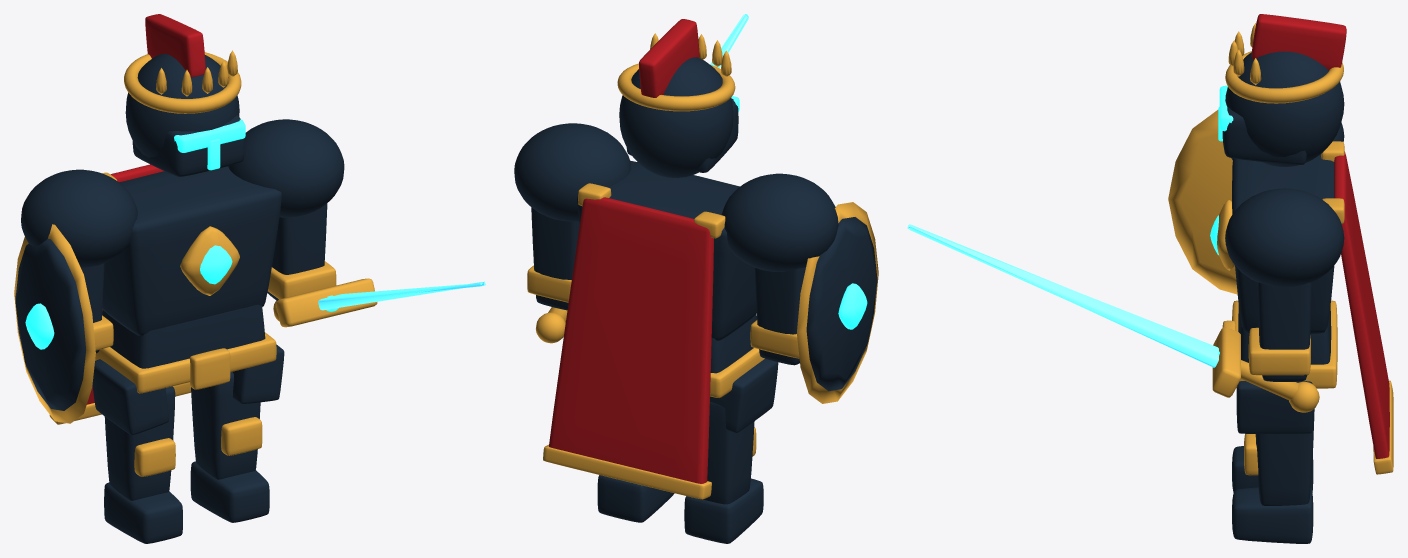
File: hero_guardian.glb
3 renders of one model, left to right at view 1: azimuth 30°, elevation 25°; view 2: azimuth 150°, elevation 25°; view 3: azimuth 270°, elevation 25°, orthographic.
Parts seen in each view (by area): view 1: Body, Head, LeftArm, RightLeg, LeftLeg, RightArm, Weapon, HeroVisor, HeroBlade, Tail; view 2: Tail, Body, LeftArm, Head, LeftLeg, RightArm, RightLeg, Weapon; view 3: Body, Head, RightLeg, Tail, LeftArm, RightArm, HeroBlade, Weapon, LeftLeg.
Part boxes in pixels (left/top/right/bottom): Body: left=21, top=119, right=344, bottom=435; Head: left=124, top=14, right=244, bottom=176; LeftArm: left=14, top=224, right=113, bottom=423; RightLeg: left=190, top=372, right=269, bottom=522; LeftLeg: left=104, top=386, right=182, bottom=543; RightArm: left=267, top=203, right=336, bottom=300; Weapon: left=273, top=278, right=377, bottom=327; HeroVisor: left=174, top=119, right=245, bottom=170; HeroBlade: left=318, top=281, right=485, bottom=310; Tail: left=49, top=164, right=191, bottom=424; Tail: left=543, top=183, right=725, bottom=499; Body: left=514, top=123, right=838, bottom=432; LeftArm: left=750, top=202, right=878, bottom=403; Head: left=617, top=19, right=738, bottom=177; LeftLeg: left=684, top=401, right=763, bottom=543; RightArm: left=527, top=207, right=579, bottom=310; RightLeg: left=597, top=475, right=674, bottom=522; Weapon: left=536, top=307, right=567, bottom=343; Body: left=1210, top=122, right=1344, bottom=433; Head: left=1222, top=14, right=1346, bottom=166; RightLeg: left=1232, top=409, right=1314, bottom=543; Tail: left=1321, top=141, right=1393, bottom=474; LeftArm: left=1168, top=110, right=1237, bottom=294; RightArm: left=1248, top=282, right=1311, bottom=381; HeroBlade: left=907, top=224, right=1218, bottom=367; Weapon: left=1212, top=327, right=1319, bottom=412; LeftLeg: left=1232, top=446, right=1313, bottom=492.
Size of the model in its own units: 1.6 by 2.28 by 2.02.
